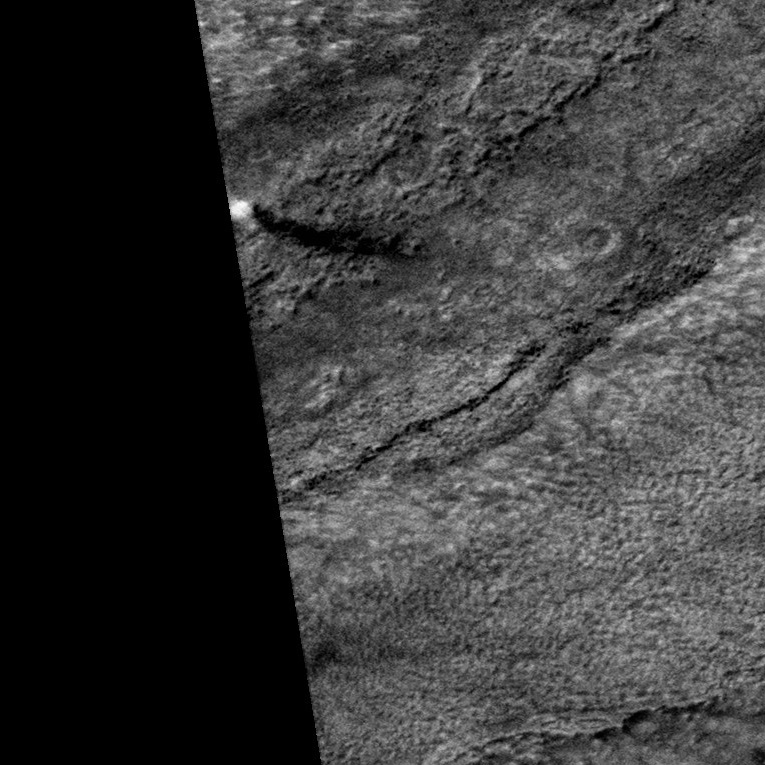dust_devil: (227, 198, 413, 260)
